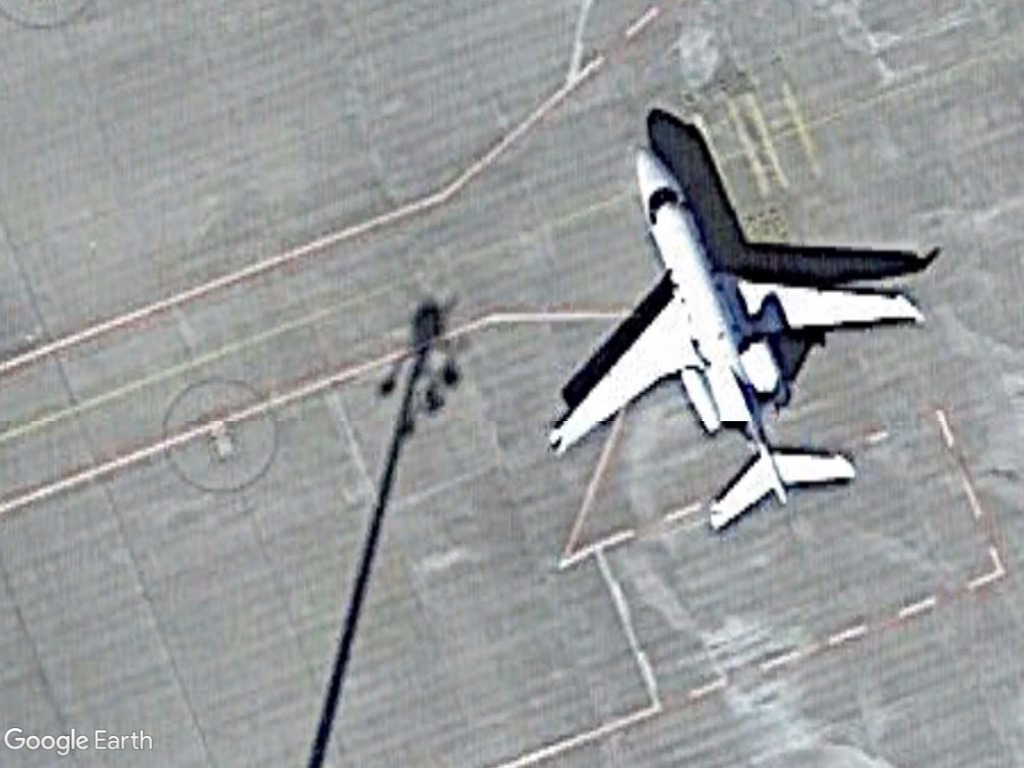chartered: (545, 143, 932, 545)
